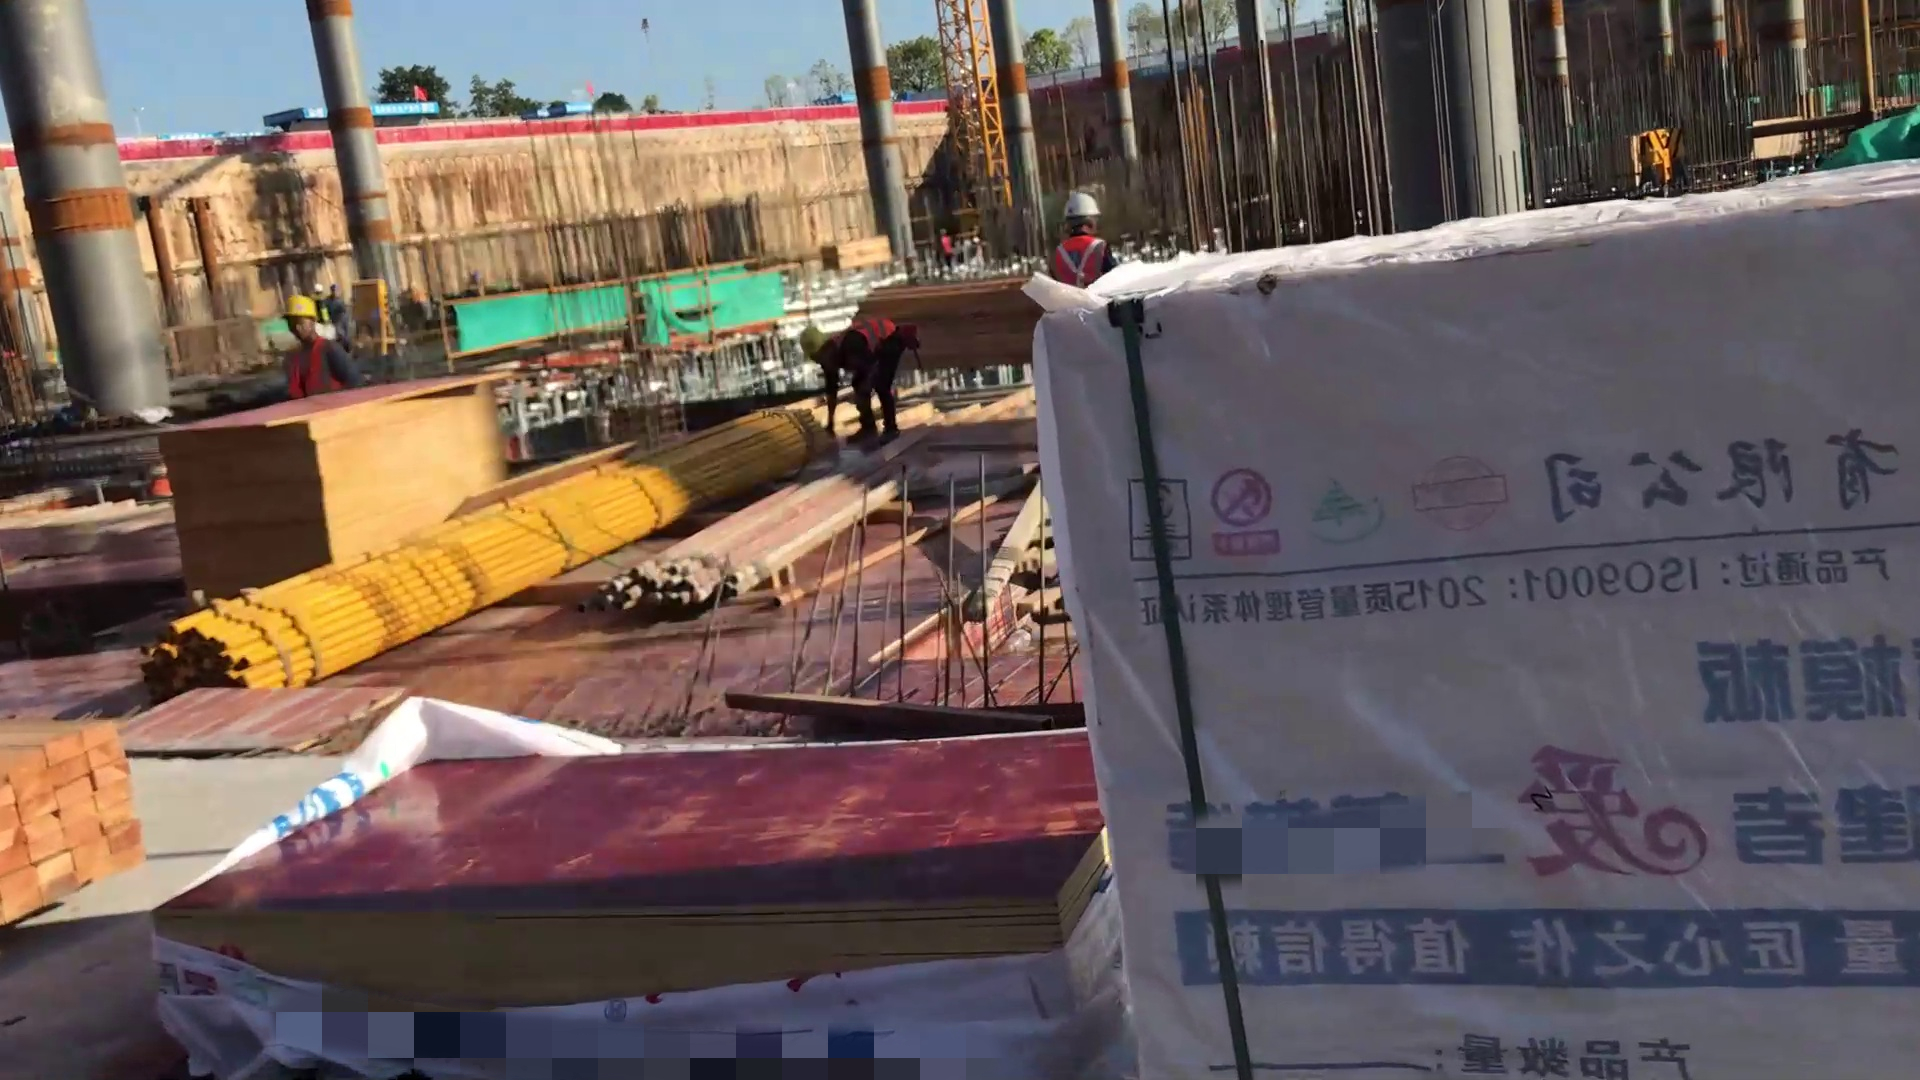board: (150, 736, 1165, 1031), (160, 369, 524, 619)
ebox: (349, 275, 403, 355)
helmet: (275, 288, 324, 330), (792, 316, 832, 366), (1051, 187, 1101, 225)
person: (792, 306, 921, 454), (267, 281, 372, 413), (1040, 184, 1118, 301)
vest: (281, 334, 346, 404), (1047, 233, 1106, 291), (842, 311, 900, 358)
wood: (1, 709, 160, 940), (881, 262, 1057, 381)
